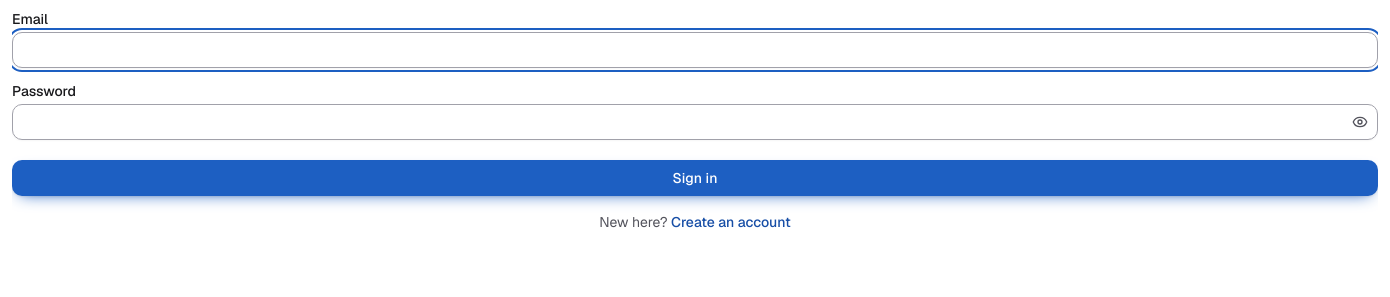
Scenario: LoginForm › surfaces rate limiting
In the field labelled "Email": (695, 50) [12,32,1378,68], type "ada@example.com"
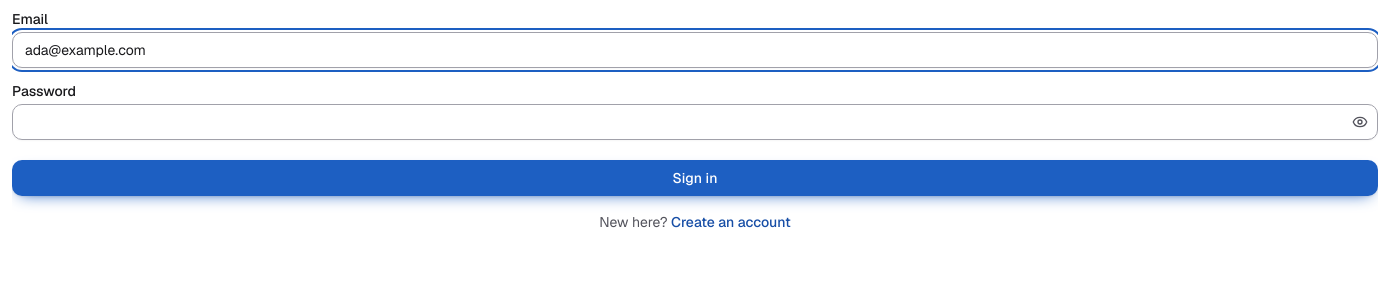
In the password field labelled "Password": (695, 122) [12,104,1378,140], type "correct horse 42"
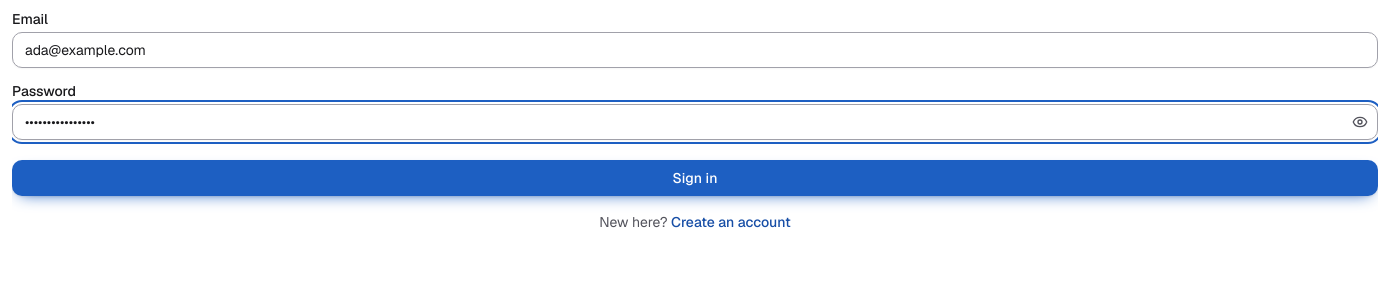
Click the button "Sign in": (695, 178) [12,160,1378,196]
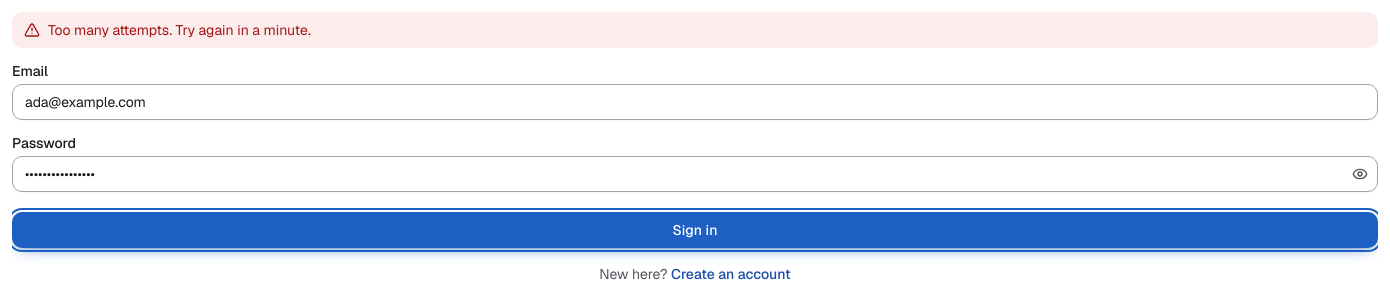
expect the message reads "Too many attempts. Try again in a minute.": met, box [48,21,311,39]
